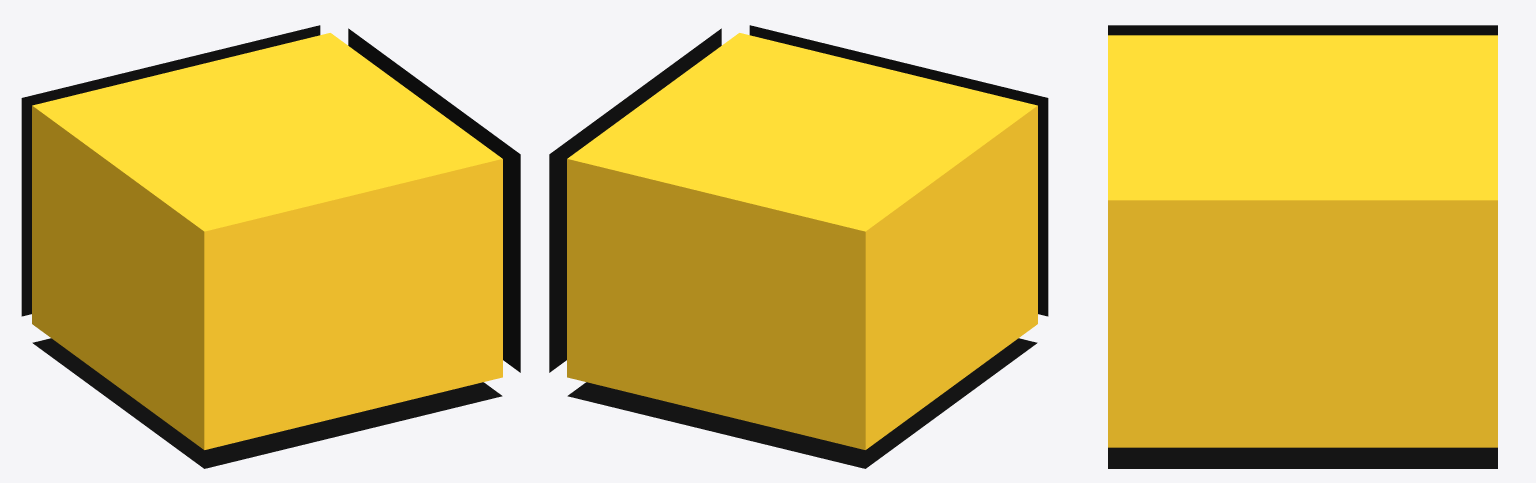
File: ammo_pickup.glb
3 views of the same model, side by side, from view 1: azimuth 30°, elevation 25°; view 2: azimuth 150°, elevation 25°; view 3: azimuth 270°, elevation 25° (orthographic). The views are drawn at different scales.
Visible parts, largest first — view 1: ammo_pickup__ammo_pickup, ammo_pickup__outline_1; view 2: ammo_pickup__ammo_pickup, ammo_pickup__outline_1; view 3: ammo_pickup__ammo_pickup, ammo_pickup__outline_1.
Boxes of the visible parts, <box> form: ammo_pickup__ammo_pickup: <box>32,33,502,449</box>; ammo_pickup__outline_1: <box>21,25,520,468</box>; ammo_pickup__ammo_pickup: <box>567,33,1037,449</box>; ammo_pickup__outline_1: <box>549,25,1048,468</box>; ammo_pickup__ammo_pickup: <box>1108,35,1497,447</box>; ammo_pickup__outline_1: <box>1108,25,1497,468</box>.
Bounding box in the file's own units: 0.56 × 0.41 × 0.56.
